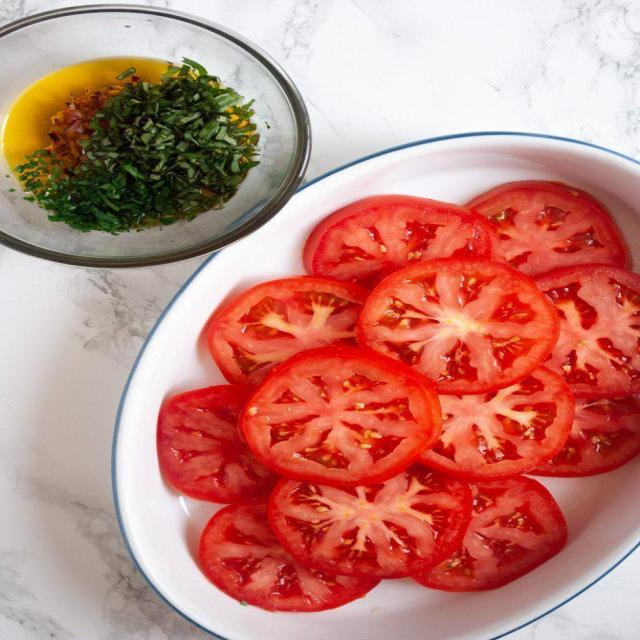Tomato: (360, 250, 560, 388), (243, 345, 438, 479), (259, 459, 461, 573), (412, 365, 584, 483), (418, 473, 582, 585), (296, 200, 508, 271), (468, 179, 627, 272), (207, 280, 360, 364)
